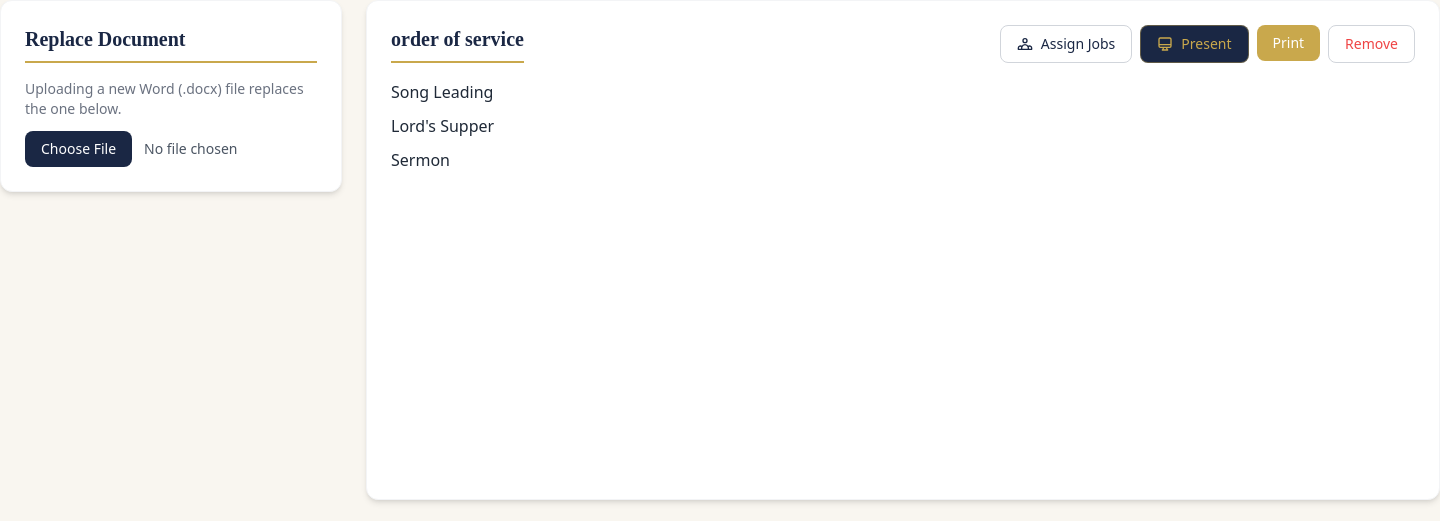
Test: OrderOfService — assigning jobs › whoever holds Worship Order can annotate the document with the nearest roster
Expected: the text "Sermon" is shown, [391, 149, 450, 171]
Click the button "Assign Jobs": (1066, 44) [1000, 25, 1132, 63]
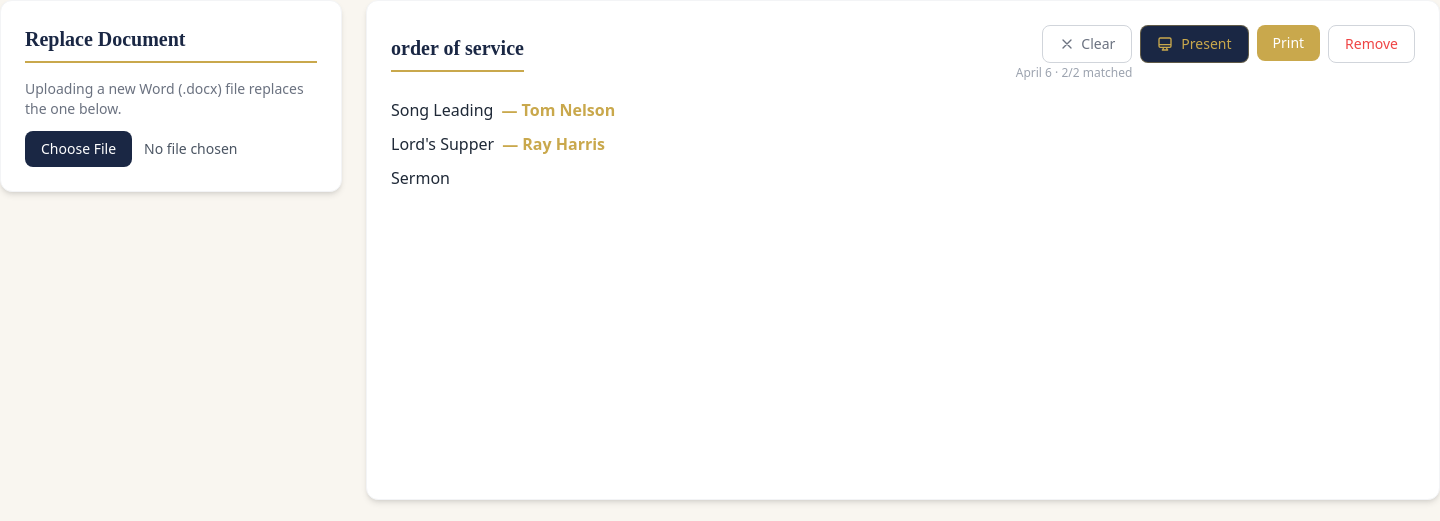
Expected: the text "April 6 · 2/2 matched" is shown, [1016, 65, 1132, 81]
Expected: the text "— Tom Nelson" is shown, [501, 99, 615, 121]
Click the button "Clear": (1087, 44) [1042, 25, 1132, 63]
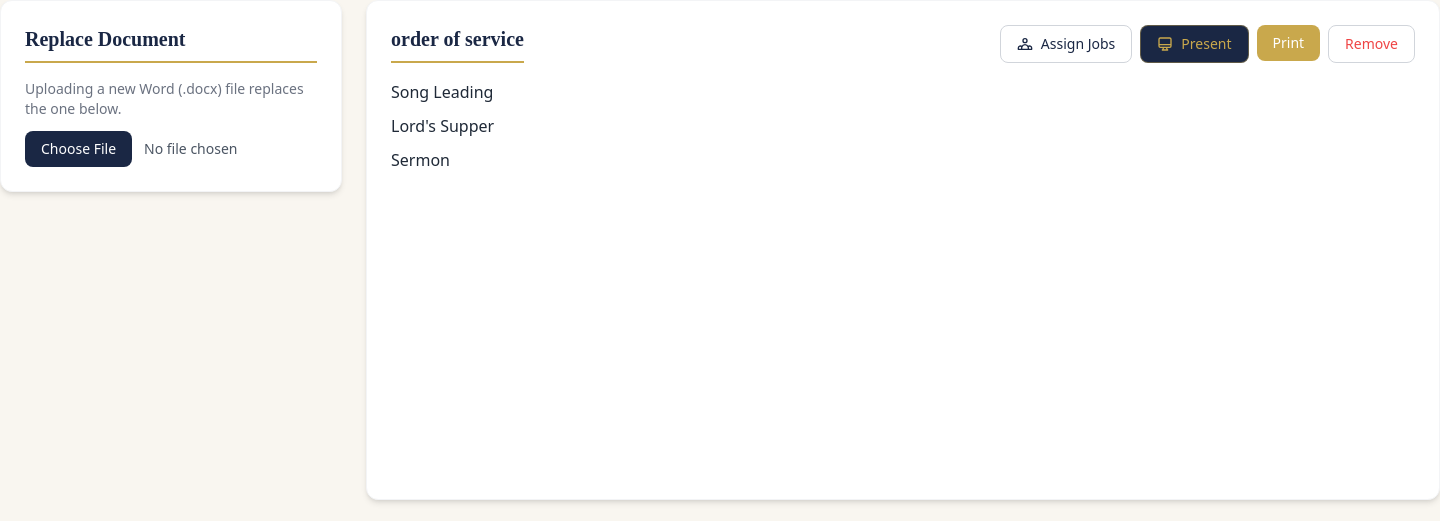
Expected: the text "Tom Nelson" is gone
